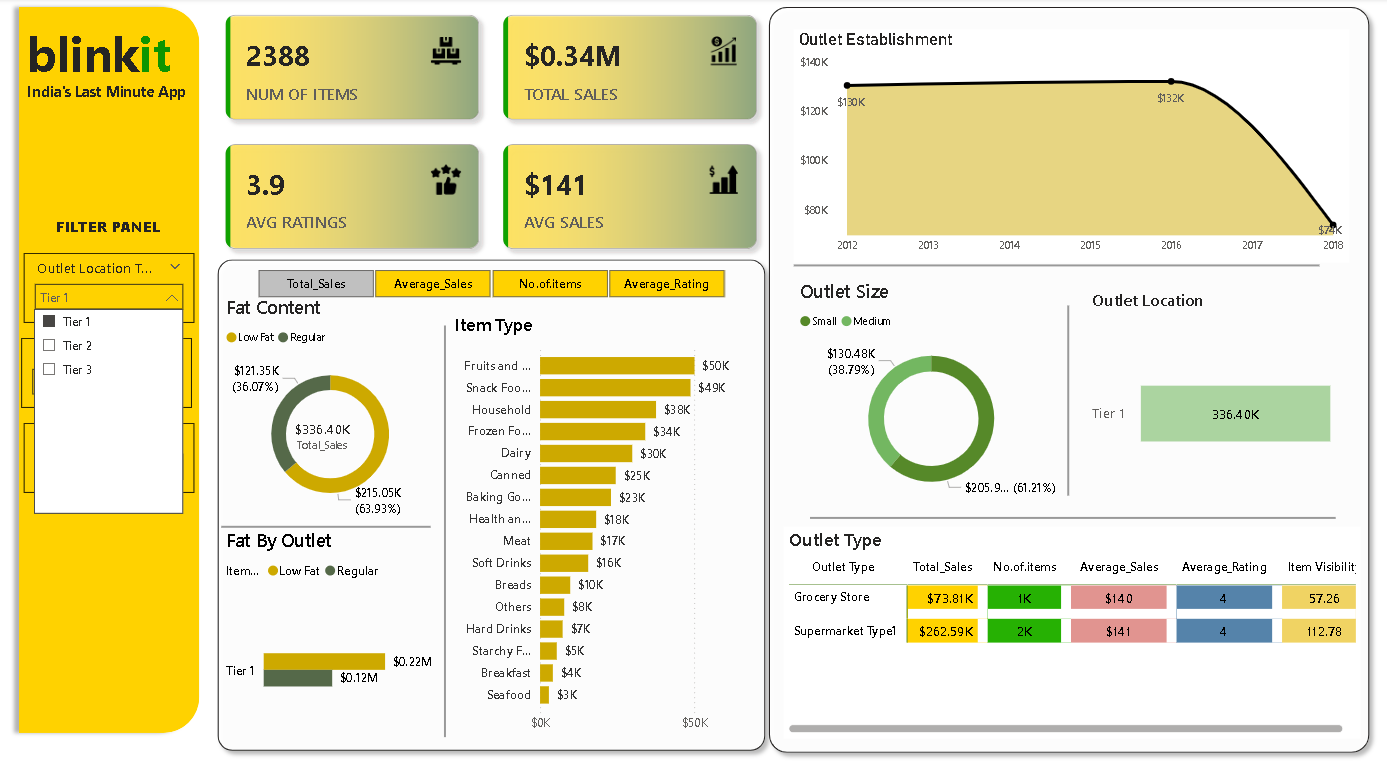

This screenshot's page, from the dashboard's own definition file:
{"tool":"powerbi","page":{"name":"Page 1","canvas":[1400,800],"ordinal":0},"visuals":[{"type":"shape","box":[10,0,200,750],"z":0},{"type":"textbox","box":[22.4,17.1,175.3,80.6],"z":1000},{"type":"textbox","box":[22.4,79.4,181.8,35.9],"z":2000},{"type":"cardVisual","fields":{"Data":["BlinkIT Grocery Data.No.of.items","BlinkIT Grocery Data.Total_Sales","BlinkIT Grocery Data.Average_Rating","BlinkIT Grocery Data.Average_Sales"]},"box":[210,0,570,270],"z":3000},{"type":"shape","box":[210,255,570,513.3],"z":4000},{"type":"slicer","fields":{"Values":["Metrix.Metrix"]},"box":[235,266.7,520,41.7],"z":5000},{"type":"donutChart","title":"Fat Content","fields":{"Y":["BlinkIT Grocery Data.Total_Sales"],"Category":["BlinkIT Grocery Data.Item Fat Content"]},"box":[223.3,298.3,220,230],"z":6000},{"type":"cardVisual","fields":{"Data":["BlinkIT Grocery Data.Total_Sales"]},"box":[278.3,408.3,93.3,65],"z":7000},{"type":"clusteredBarChart","box":[790,18,570,270],"z":8000},{"type":"clusteredBarChart","title":"Fat By Outlet","fields":{"Y":["BlinkIT Grocery Data.Total_Sales"],"Category":["BlinkIT Grocery Data.Outlet Location Type"],"Series":["BlinkIT Grocery Data.Item Fat Content"]},"box":[223.3,533.3,220,230],"z":9000},{"type":"shape","box":[222.6,527.8,211.1,10.2],"z":10000},{"type":"shape","box":[443.3,330,10,415],"z":11000},{"type":"barChart","title":"Item Type","fields":{"Y":["BlinkIT Grocery Data.Total_Sales"],"Category":["BlinkIT Grocery Data.Item Type"]},"box":[453.3,316.7,311.7,433.3],"z":12000},{"type":"shape","box":[766.7,0,623.3,770],"z":13000},{"type":"lineChart","title":"Outlet Establishment","fields":{"Y":["BlinkIT Grocery Data.Total_Sales"],"Category":["BlinkIT Grocery Data.Outlet Establishment Year"]},"box":[800,31.7,560,235],"z":14000},{"type":"shape","box":[800,260,530,20],"z":15000},{"type":"donutChart","title":"Outlet Size","fields":{"Y":["BlinkIT Grocery Data.Total_Sales"],"Category":["BlinkIT Grocery Data.Outlet Size"]},"box":[801.7,281.7,275,231.7],"z":16000},{"type":"shape","box":[1566.7,255,10,415],"z":17000},{"type":"shape","box":[1066.3,310.3,21.7,191.7],"z":18000},{"type":"funnel","title":"Outlet Location","fields":{"Category":["BlinkIT Grocery Data.Outlet Location Type"],"Y":["Sum(BlinkIT Grocery Data.Sales)"]},"box":[1096.3,292,255,230],"z":19000},{"type":"shape","box":[816.3,513.7,530,20],"z":20000},{"type":"pivotTable","title":"Outlet Type","fields":{"Values":["BlinkIT Grocery Data.Total_Sales","BlinkIT Grocery Data.No.of.items","BlinkIT Grocery Data.Average_Sales","BlinkIT Grocery Data.Average_Rating","Sum(BlinkIT Grocery Data.Item Visibility)"],"Rows":["BlinkIT Grocery Data.Outlet Type"]},"box":[790,533.3,581.7,213.3],"z":21000},{"type":"slicer","fields":{"Values":["BlinkIT Grocery Data.Outlet Location Type"]},"box":[23.3,256.7,171.7,70],"z":22000},{"type":"slicer","fields":{"Values":["BlinkIT Grocery Data.Outlet Size"]},"box":[21.7,343.3,171.7,70],"z":23000},{"type":"slicer","fields":{"Values":["BlinkIT Grocery Data.Item Type"]},"box":[23.3,428.3,171.7,70],"z":24000},{"type":"textbox","box":[20,198.3,178.3,56.7],"z":25000}]}

Visuals, with their boxes in screenshot pixels (x1, y1, x2, y2), scaled from the page's 1400x800 canvas onto the 1387x775 screenshot:
shape: {"x1": 10, "y1": 0, "x2": 208, "y2": 727}
textbox: {"x1": 22, "y1": 17, "x2": 196, "y2": 95}
textbox: {"x1": 22, "y1": 77, "x2": 202, "y2": 112}
cardVisual - BlinkIT Grocery Data.No.of.items x BlinkIT Grocery Data.Total_Sales: {"x1": 208, "y1": 0, "x2": 773, "y2": 262}
shape: {"x1": 208, "y1": 247, "x2": 773, "y2": 744}
slicer - Metrix.Metrix: {"x1": 233, "y1": 258, "x2": 748, "y2": 299}
"Fat Content" donutChart: {"x1": 221, "y1": 289, "x2": 439, "y2": 512}
cardVisual - BlinkIT Grocery Data.Total_Sales: {"x1": 276, "y1": 396, "x2": 368, "y2": 459}
clusteredBarChart: {"x1": 783, "y1": 17, "x2": 1347, "y2": 279}
"Fat By Outlet" clusteredBarChart: {"x1": 221, "y1": 517, "x2": 439, "y2": 739}
shape: {"x1": 221, "y1": 511, "x2": 430, "y2": 521}
shape: {"x1": 439, "y1": 320, "x2": 449, "y2": 722}
"Item Type" barChart: {"x1": 449, "y1": 307, "x2": 758, "y2": 727}
shape: {"x1": 760, "y1": 0, "x2": 1377, "y2": 746}
"Outlet Establishment" lineChart: {"x1": 793, "y1": 31, "x2": 1347, "y2": 258}
shape: {"x1": 793, "y1": 252, "x2": 1318, "y2": 271}
"Outlet Size" donutChart: {"x1": 794, "y1": 273, "x2": 1067, "y2": 497}
shape: {"x1": 1056, "y1": 301, "x2": 1078, "y2": 486}
"Outlet Location" funnel: {"x1": 1086, "y1": 283, "x2": 1339, "y2": 506}
shape: {"x1": 809, "y1": 498, "x2": 1334, "y2": 517}
"Outlet Type" pivotTable: {"x1": 783, "y1": 517, "x2": 1359, "y2": 723}
slicer - BlinkIT Grocery Data.Outlet Location Type: {"x1": 23, "y1": 249, "x2": 193, "y2": 316}
slicer - BlinkIT Grocery Data.Outlet Size: {"x1": 21, "y1": 333, "x2": 192, "y2": 400}
slicer - BlinkIT Grocery Data.Item Type: {"x1": 23, "y1": 415, "x2": 193, "y2": 483}
textbox: {"x1": 20, "y1": 192, "x2": 196, "y2": 247}
